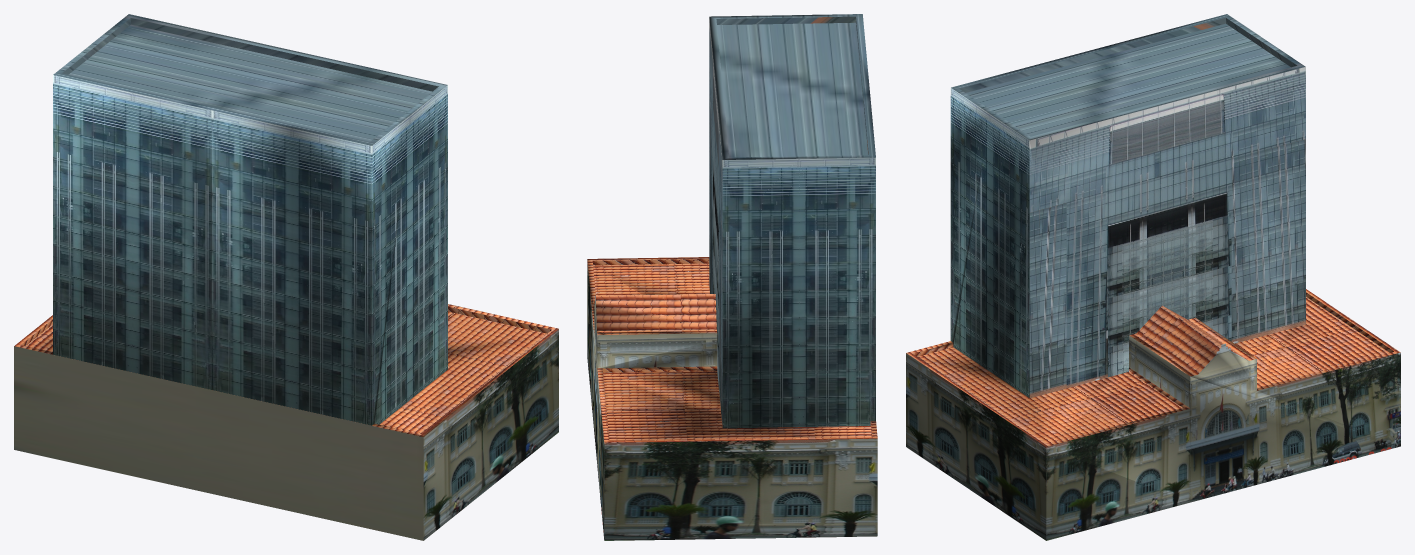
The model's file is khobacfix.fbx.
3 views of the same model, side by side, from view 1: azimuth 30°, elevation 25°; view 2: azimuth 150°, elevation 25°; view 3: azimuth 270°, elevation 25° (orthographic). The views are drawn at different scales.
Parts seen in each view (by area): view 1: Mesh1_NganHang1_Model; view 2: Mesh1_NganHang1_Model; view 3: Mesh1_NganHang1_Model.
Boxes of the visible parts, box(x1,y1,x2,y2) form: Mesh1_NganHang1_Model: box(14, 14, 558, 540); Mesh1_NganHang1_Model: box(587, 14, 877, 540); Mesh1_NganHang1_Model: box(906, 14, 1400, 540).
Size of the model in its own units: 1248 by 1073 by 1385.
20 materials, 20 textured.
